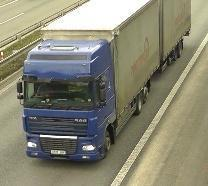truck: (18, 0, 191, 167)
